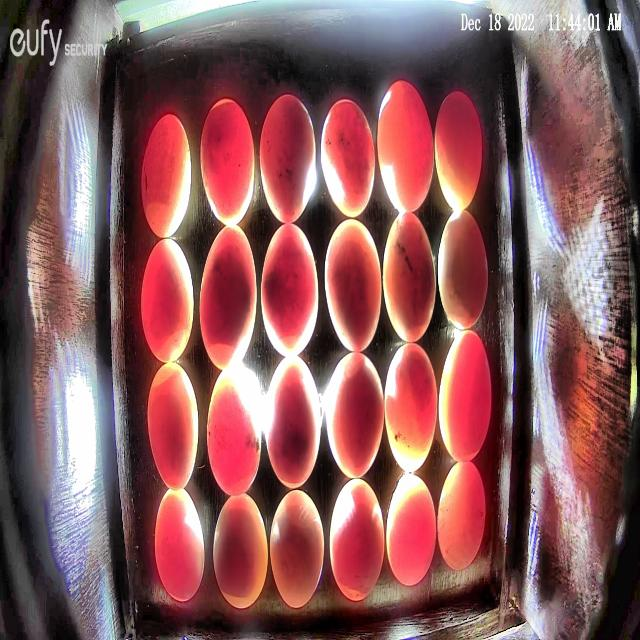FE: (199, 223, 258, 372), (259, 223, 319, 357), (323, 217, 382, 353), (377, 80, 435, 214), (259, 94, 316, 225), (266, 354, 321, 489), (382, 210, 437, 344), (383, 341, 438, 474), (206, 366, 262, 496), (327, 353, 385, 478), (199, 96, 255, 225), (329, 478, 386, 602), (146, 362, 200, 492), (439, 330, 491, 463), (140, 237, 194, 363), (320, 98, 376, 218), (270, 489, 325, 608), (140, 113, 192, 238), (438, 209, 488, 330), (214, 495, 267, 609), (433, 89, 482, 210), (386, 473, 437, 586), (155, 487, 205, 602), (437, 459, 485, 571)
